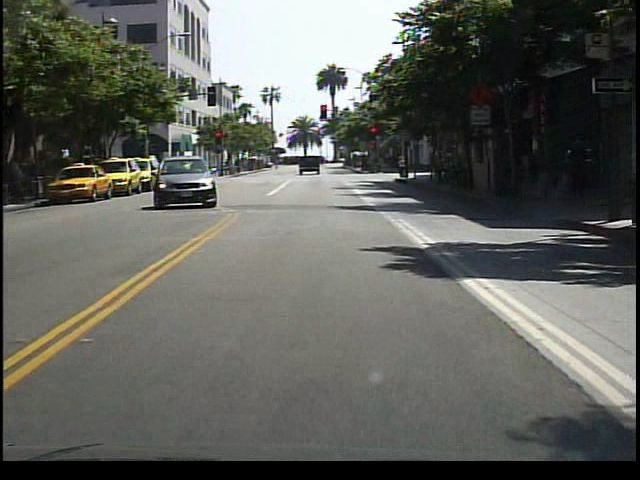person: (396, 151, 411, 180)
